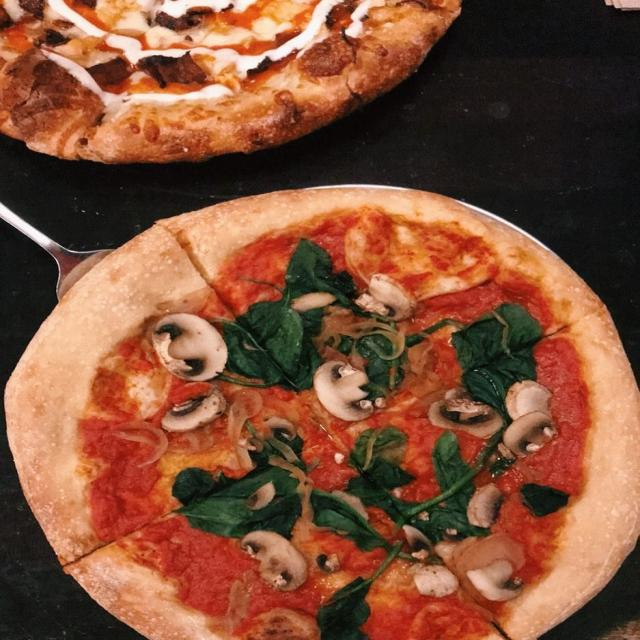mushrooms: (152, 311, 230, 383), (238, 529, 308, 592), (310, 359, 375, 422), (428, 397, 504, 439), (159, 388, 228, 433), (464, 558, 526, 602), (502, 411, 556, 458), (370, 273, 416, 322), (464, 483, 506, 529), (506, 380, 552, 419), (412, 565, 458, 600), (242, 480, 276, 511), (401, 522, 434, 550), (354, 293, 391, 317), (266, 417, 296, 441), (313, 552, 342, 574)
pizza: (0, 184, 640, 640), (0, 0, 464, 168)
